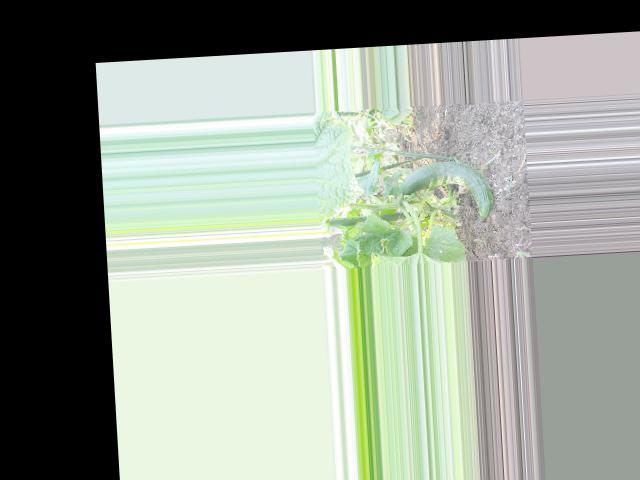cucumber: (398, 158, 494, 222)
